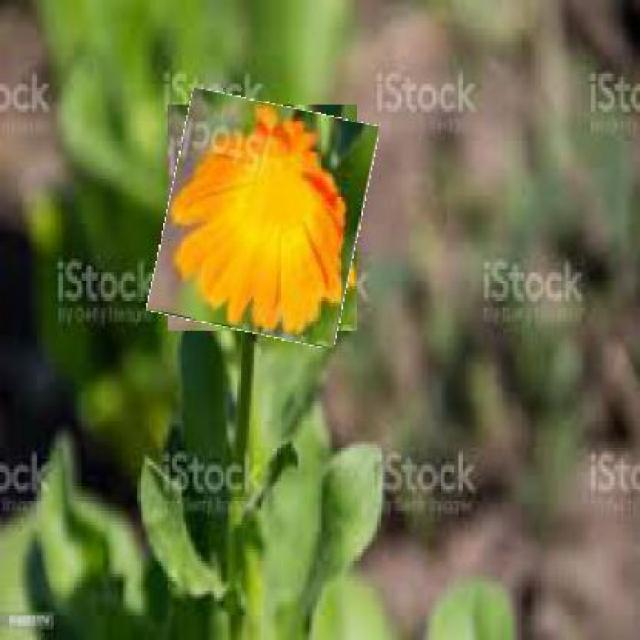Flower: (157, 96, 369, 341)
